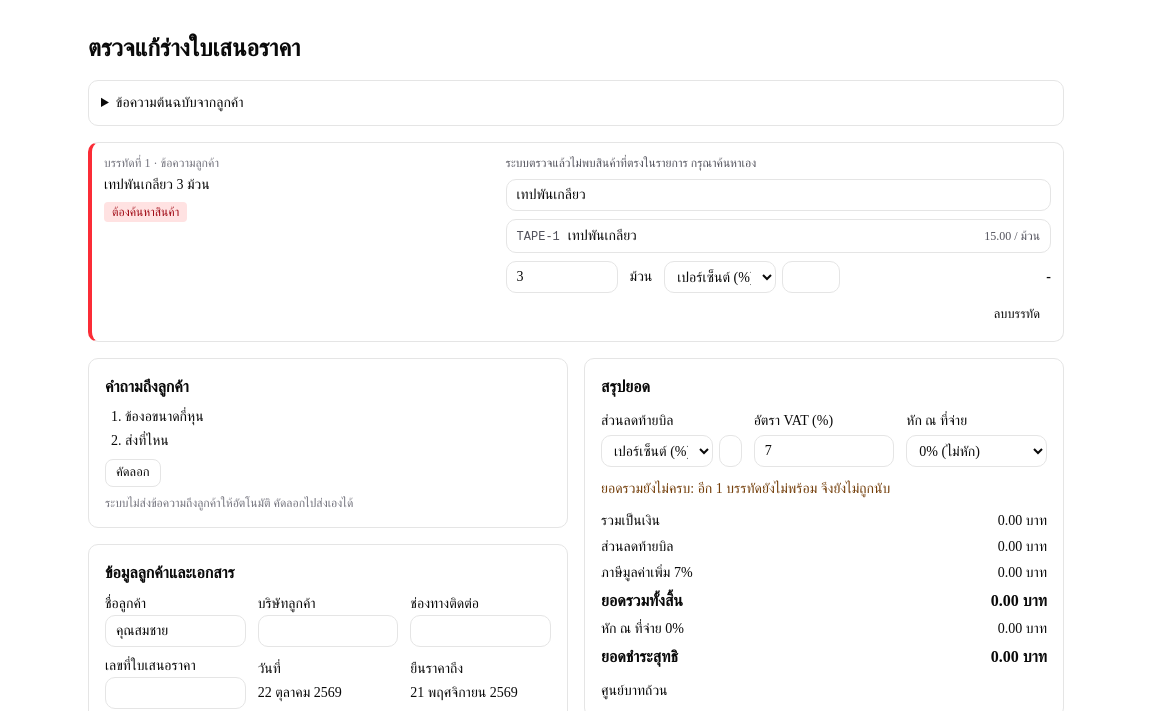
it: searching the catalog › searches as the user types and lists sku, name and unit
Replace the text in the field named "ค้นหาสินค้า บรรทัดที่ 1" with "ข้องอ" at (778, 195), box [506,179,1051,211]
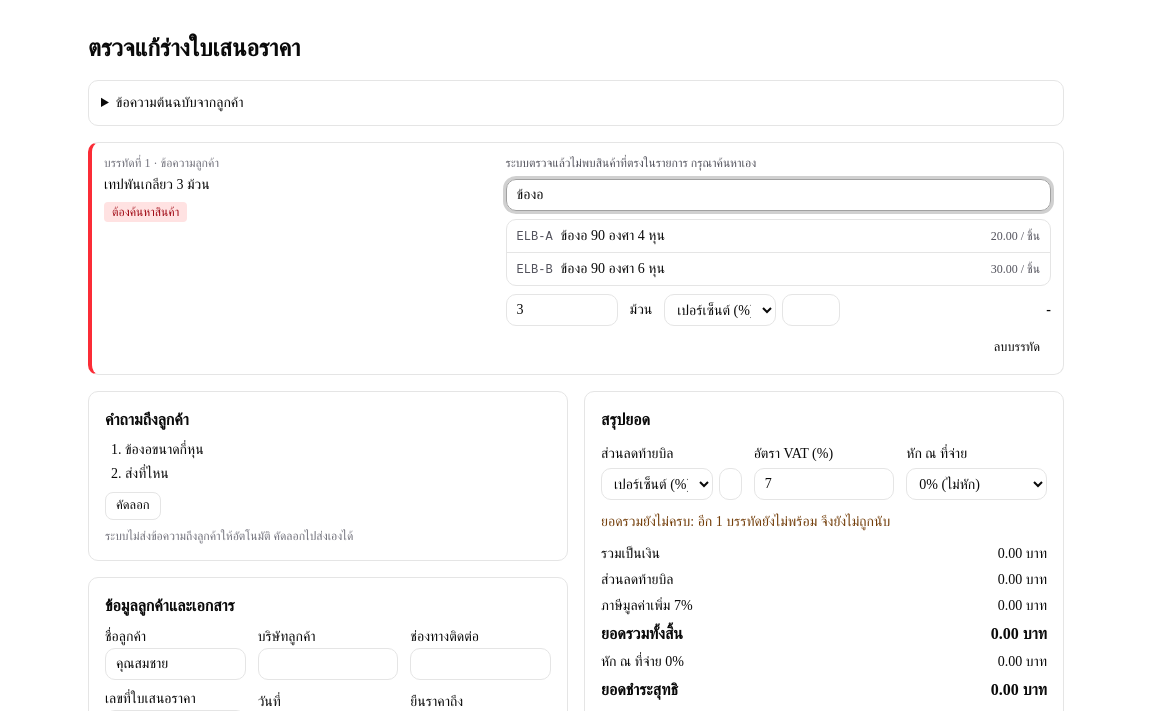
Now the number of buttons "ELB-A ข้องอ 90 องศา 4 หุน 20.00 / ชิ้น" is 2, box [507,220,1050,252]; [507,253,1050,285]
Now the button "ELB-A ข้องอ 90 องศา 4 หุน 20.00 / ชิ้น" is shown, box [507,220,1050,252]
